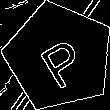P_NW: (30, 25, 89, 88)
